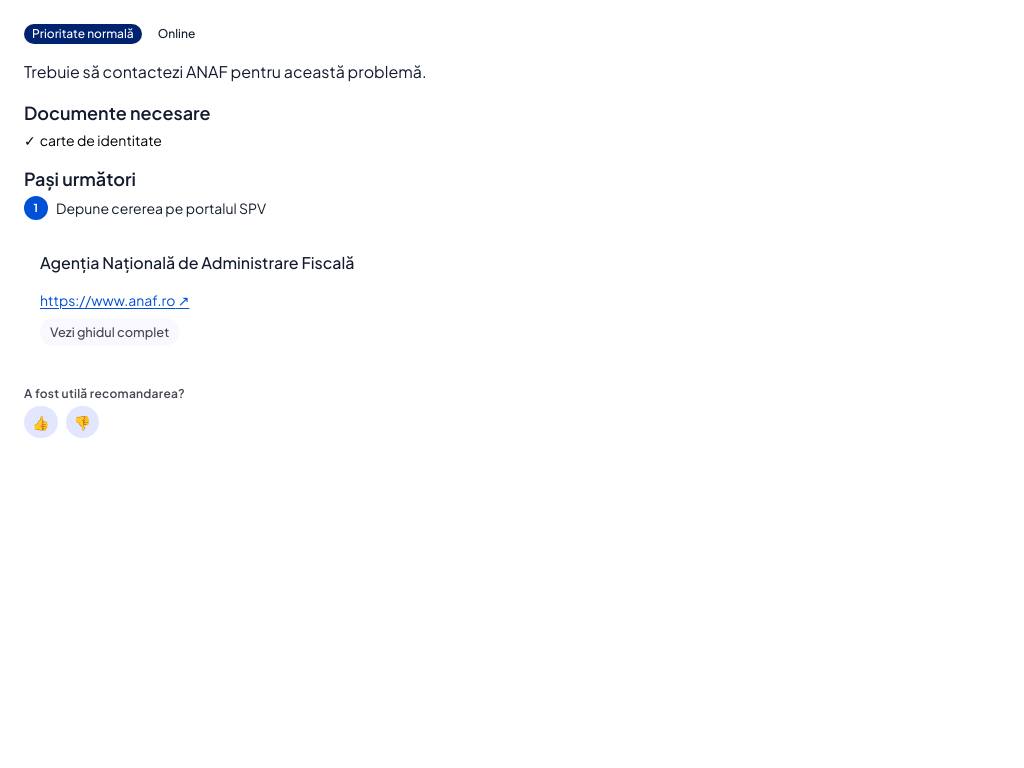
Test: AnalysisResult › reveals an optional correction field after thumbs-down, then submits it
This screenshot has width=1024, height=768.
Step 1. Click the button named "Recomandarea nu a fost utilă" → point(82, 422), box [66, 406, 99, 438]
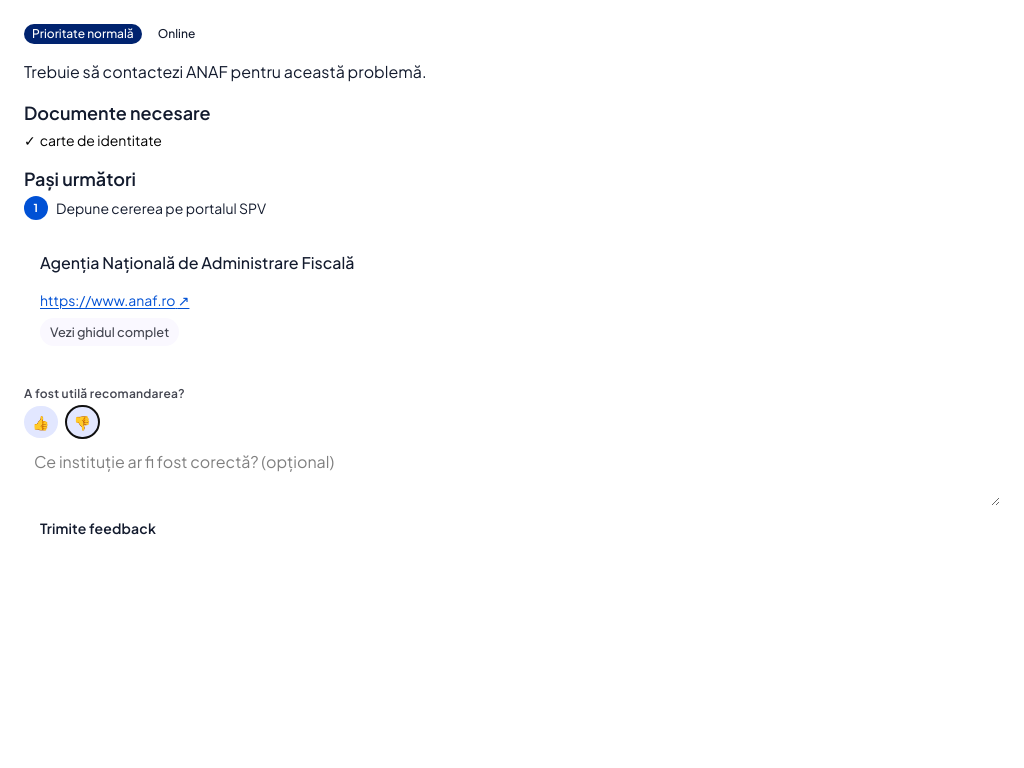
Step 2. Type "Ar fi trebuit ANPC" into the text box labelled "Ce instituție ar fi fost corectă?" → point(512, 474), box [24, 442, 1000, 506]
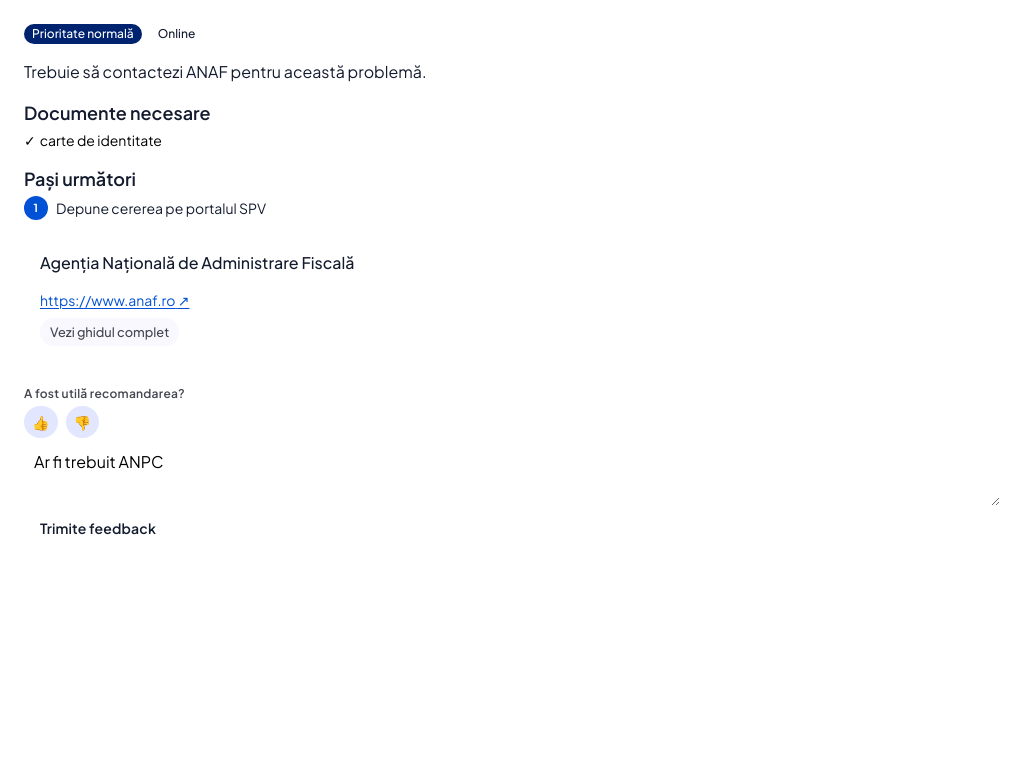
Step 3. Click the button "Trimite feedback" → point(98, 528), box [24, 510, 172, 546]
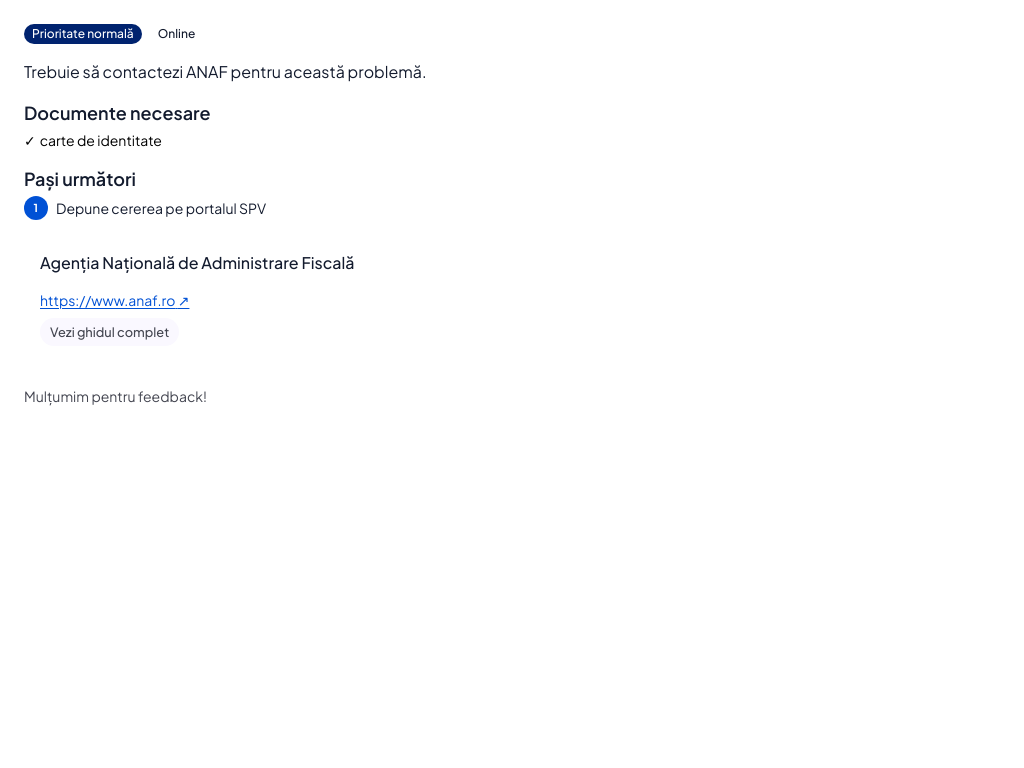
Result: the text "Mulțumim pentru feedback!" is shown at [24, 387, 207, 405]
